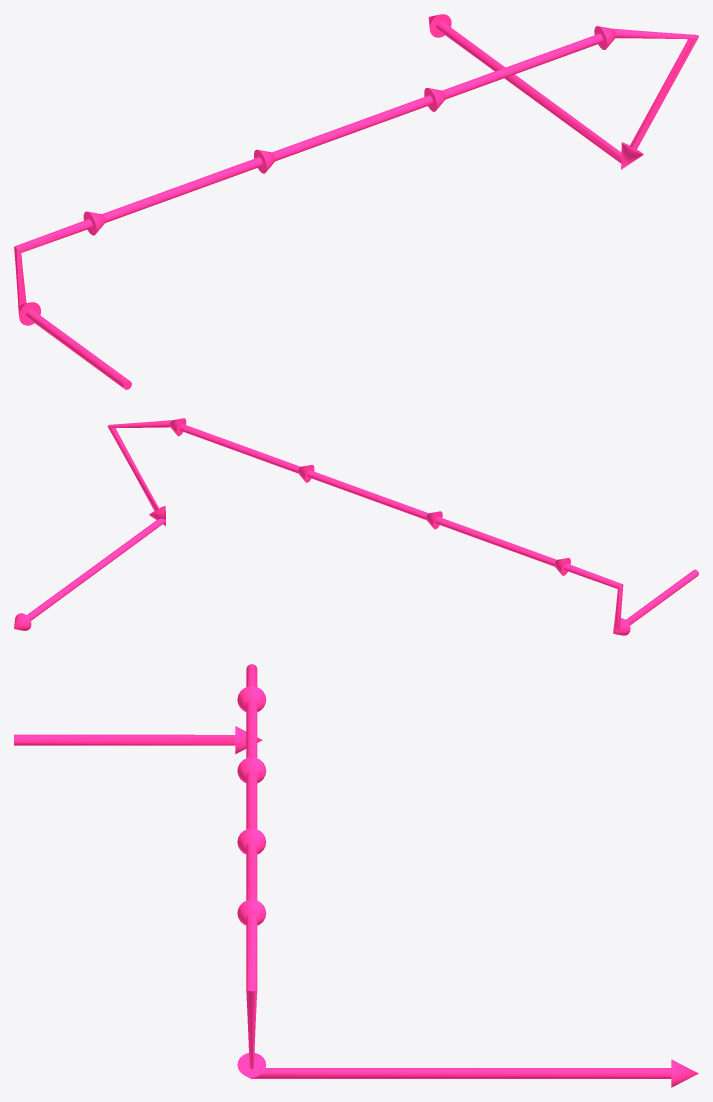
File: belt_drive_assembly_flow.glb
The picture shows the model from 3 angles, top to bottom: view 1: azimuth 30°, elevation 25°; view 2: azimuth 150°, elevation 25°; view 3: azimuth 270°, elevation 25°; orthographic projection. The views are drawn at different scales.
Parts seen in each view (by area): view 1: power; view 2: power; view 3: power.
Boxes of the visible parts, bbox=[...] form: power: bbox=[14, 14, 698, 389]; power: bbox=[14, 418, 698, 635]; power: bbox=[14, 664, 698, 1087].
Size of the model in its own units: 1.13 by 0.2403 by 0.864.
